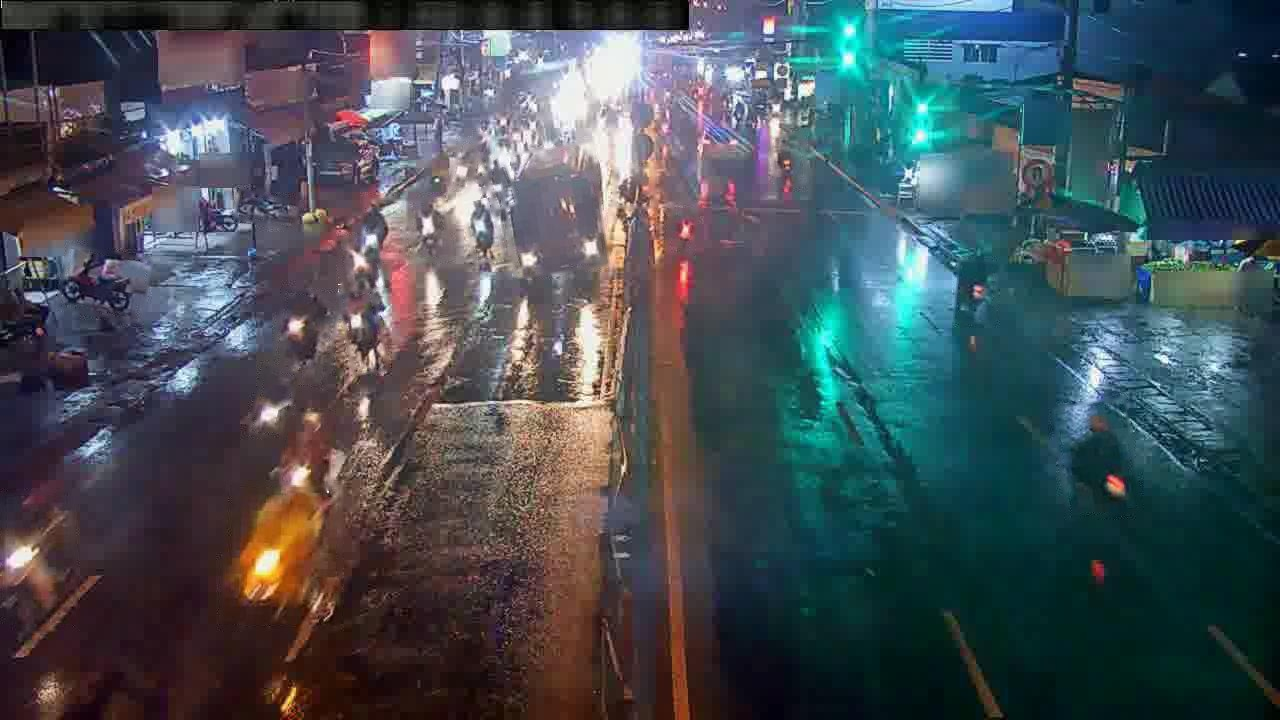Bus: (510, 144, 606, 279)
Car: (61, 268, 130, 311), (910, 223, 958, 252), (943, 241, 976, 270)
Motorcyclist: (235, 484, 332, 619), (0, 495, 74, 631), (1063, 407, 1135, 511), (278, 291, 332, 384), (282, 412, 331, 496), (346, 285, 384, 370), (246, 369, 293, 432), (955, 258, 993, 325), (358, 202, 403, 254), (411, 199, 446, 259), (347, 233, 381, 292), (469, 199, 496, 264), (775, 136, 806, 192), (665, 206, 696, 258), (237, 194, 295, 221), (489, 155, 513, 212), (453, 142, 479, 186), (615, 171, 647, 206), (476, 136, 490, 187)
